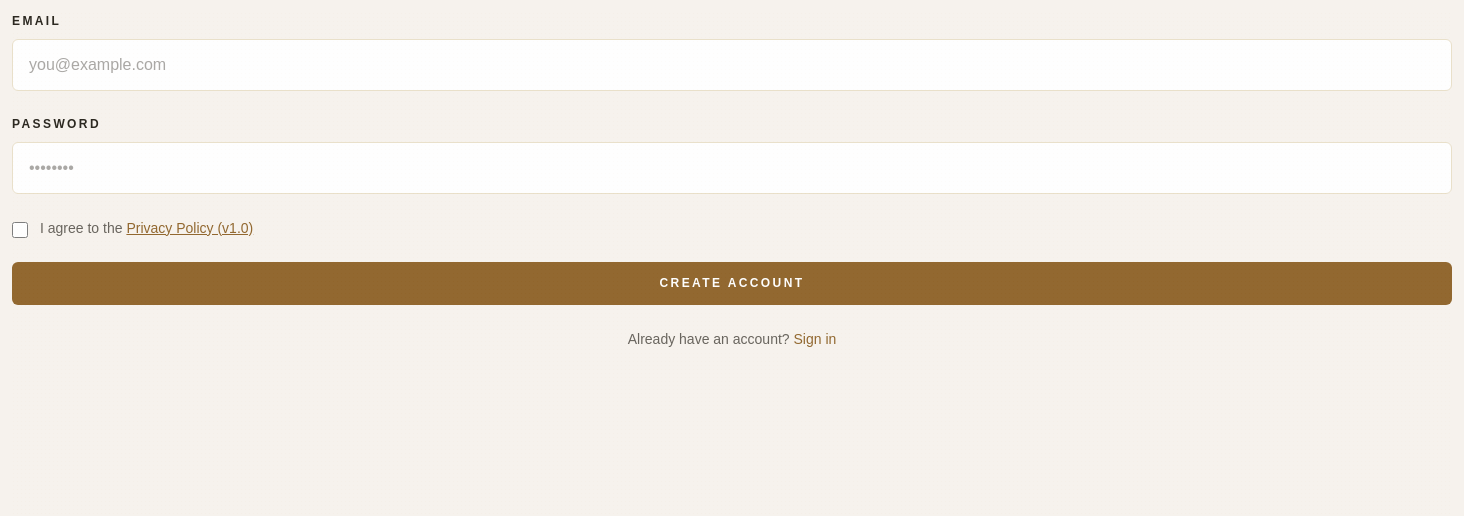
Test: SignupForm › shows consent error when not accepted
This screenshot has width=1464, height=516.
Type "test@example.com" into the field labelled "Email" at (732, 65), box 12,39 -> 1452,91
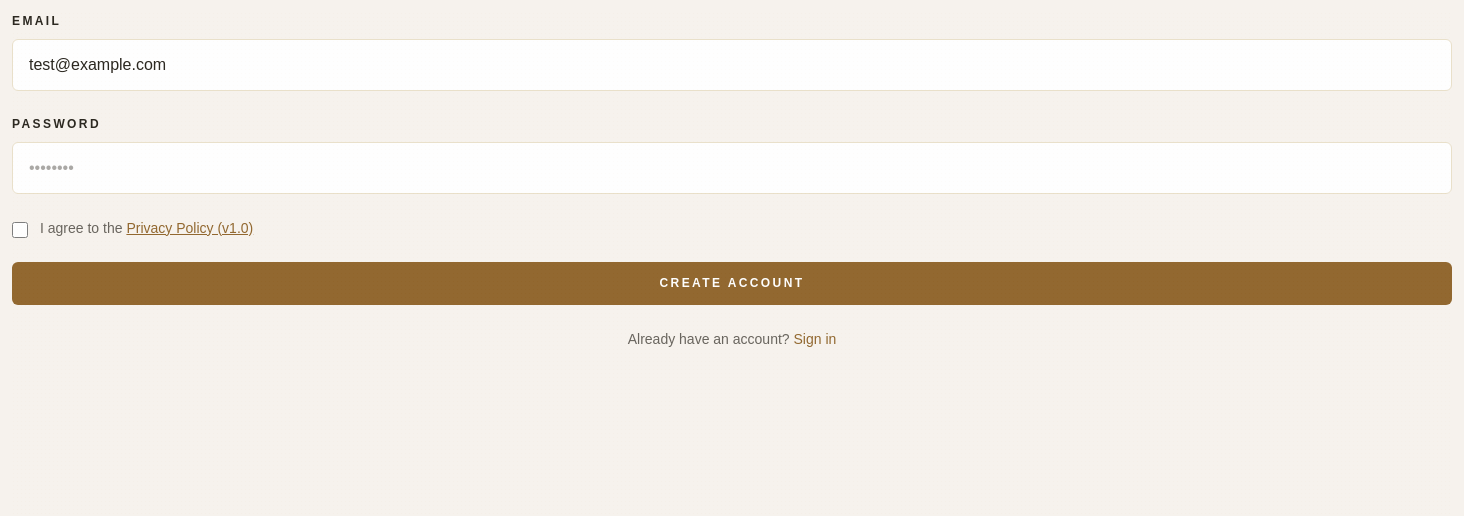
Type "Password1!" into the password field labelled "Password" at (732, 168), box 12,142 -> 1452,194
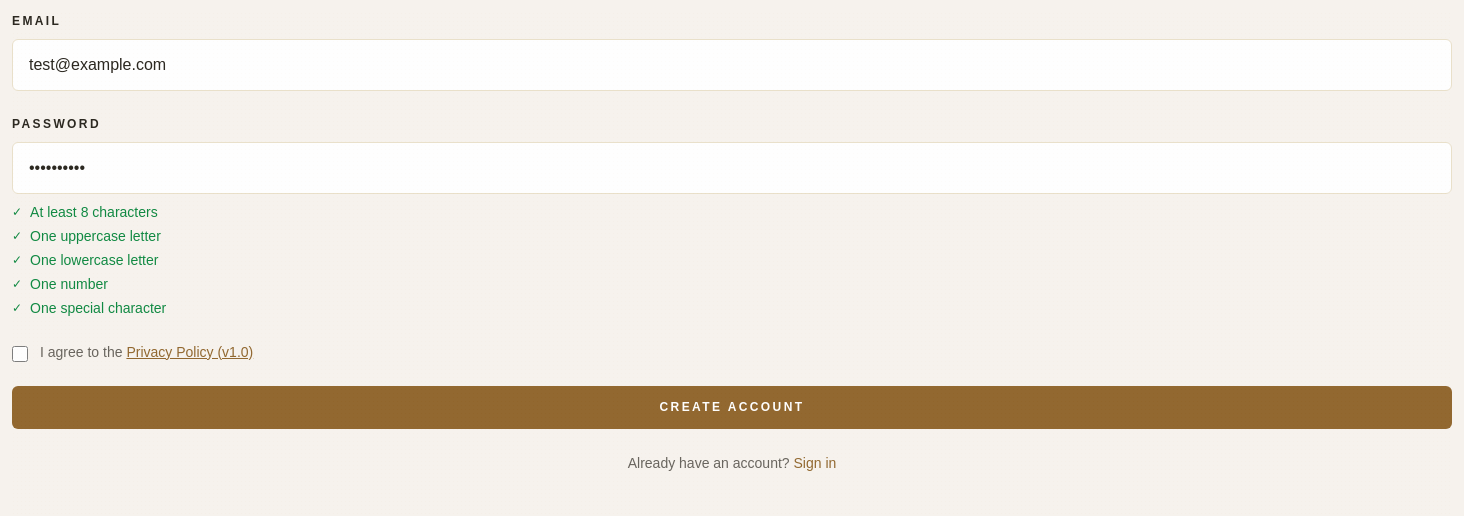
Click the button "Create Account" at (732, 407), box 12,386 -> 1452,429
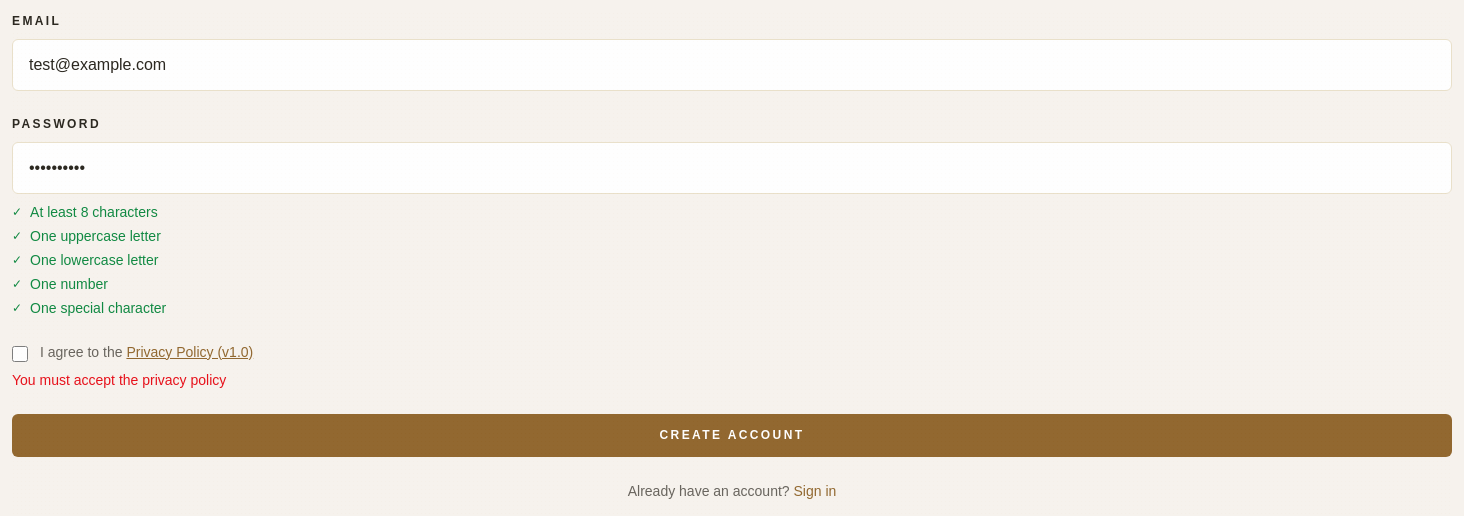
Now the message "You must accept the privacy policy" is shown, box 12,372 -> 226,388
